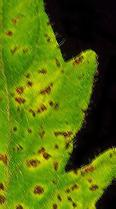Tomato leaf bacterial spot: (0, 3, 116, 209)
